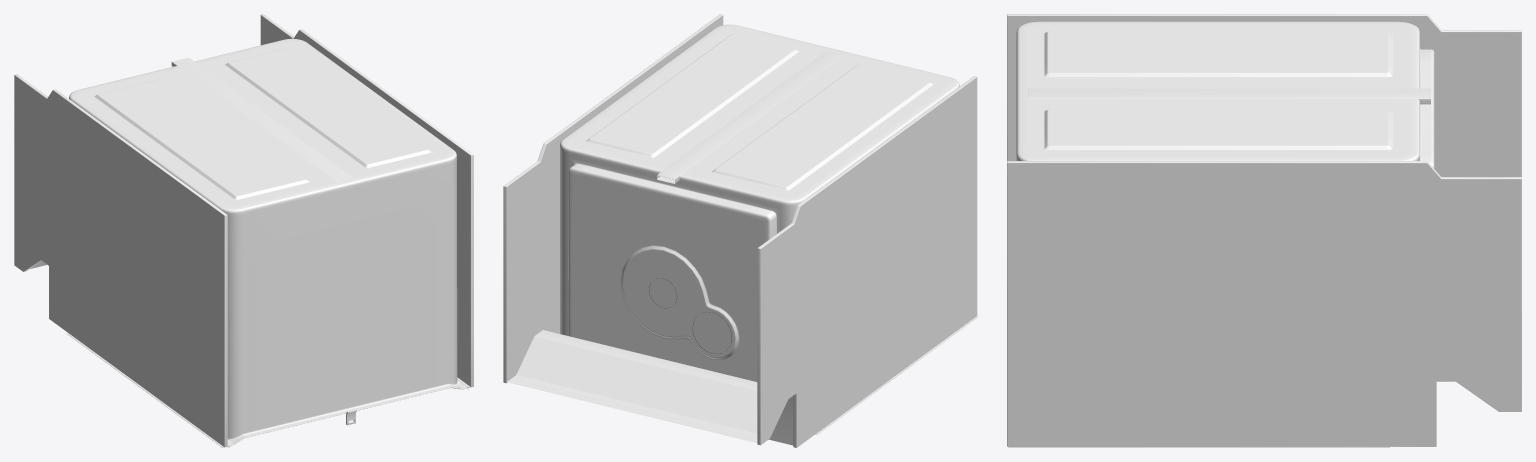
The model's file is SM_Dishwasher_Base.obj.
The picture shows the model from 3 angles, left to right: view 1: azimuth 30°, elevation 25°; view 2: azimuth 150°, elevation 25°; view 3: azimuth 270°, elevation 25°; orthographic projection. The views are drawn at different scales.
Parts seen in each view (by area): view 1: SM_Dishwasher_Base; view 2: SM_Dishwasher_Base; view 3: SM_Dishwasher_Base.
Part boxes in pixels (<box>): SM_Dishwasher_Base: <box>14,14,474,447</box>; SM_Dishwasher_Base: <box>503,14,978,447</box>; SM_Dishwasher_Base: <box>1007,14,1521,447</box>.
Bounding box in the file's own units: 0.584 × 0.5347 × 0.8439.
